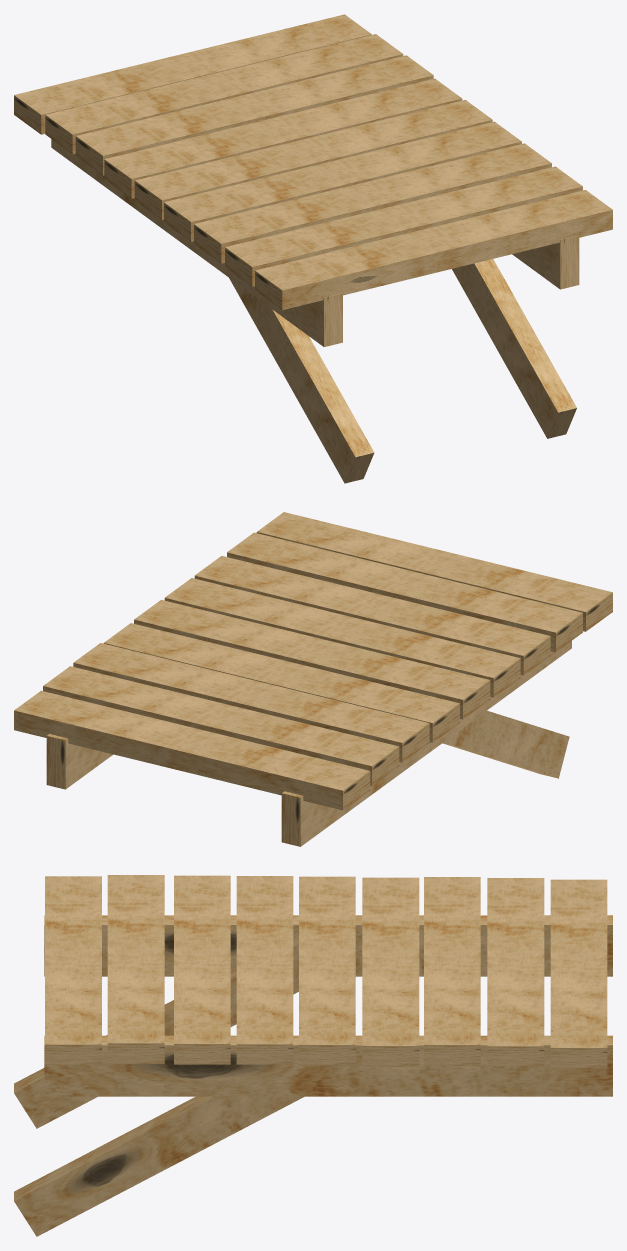
The model's file is boardwalk1.fbx.
3 renders of one model, top to bottom at view 1: azimuth 30°, elevation 25°; view 2: azimuth 150°, elevation 25°; view 3: azimuth 270°, elevation 25°, orthographic. The views are drawn at different scales.
Visible parts, largest first — view 1: Cube.002, Cube.003, Cube.004, Cube.008, Cube.005, Cube.006, Cube.007, Cube.009, Cube.010, Cube.012, Cube.011, Cube.001 (+1 smaller); view 2: Cube.010, Cube.009, Cube.003, Cube.008, Cube.006, Cube.004, Cube.005, Cube.002, Cube.007, Cube.012, Cube.001, Cube; view 3: Cube, Cube.011, Cube.007, Cube.010, Cube.003, Cube.005, Cube.009, Cube.002, Cube.004, Cube.006, Cube.008, Cube.001 (+1 smaller).
Part boxes in pixels (left/top/right/bottom): Cube.002: left=255, top=190, right=612, bottom=310; Cube.003: left=225, top=166, right=582, bottom=286; Cube.004: left=194, top=143, right=551, bottom=263; Cube.008: left=75, top=55, right=433, bottom=175; Cube.005: left=164, top=121, right=521, bottom=241; Cube.006: left=134, top=100, right=492, bottom=219; Cube.007: left=104, top=78, right=462, bottom=198; Cube.009: left=45, top=34, right=403, bottom=154; Cube.010: left=14, top=14, right=371, bottom=134; Cube.012: left=229, top=278, right=374, bottom=483; Cube.011: left=452, top=259, right=576, bottom=438; Cube.001: left=51, top=139, right=342, bottom=346; Cube.010: left=14, top=690, right=370, bottom=810; Cube.009: left=43, top=666, right=399, bottom=785; Cube.003: left=227, top=532, right=582, bottom=652; Cube.008: left=73, top=643, right=429, bottom=762; Cube.006: left=134, top=600, right=490, bottom=719; Cube.004: left=194, top=556, right=550, bottom=675; Cube.005: left=164, top=578, right=520, bottom=697; Cube.002: left=256, top=512, right=612, bottom=631; Cube.007: left=103, top=623, right=459, bottom=742; Cube.012: left=442, top=710, right=569, bottom=778; Cube.001: left=281, top=641, right=571, bottom=846; Cube: left=46, top=734, right=113, bottom=789; Cube: left=44, top=1035, right=612, bottom=1096; Cube.011: left=14, top=1096, right=304, bottom=1236; Cube.007: left=362, top=877, right=419, bottom=1066; Cube.010: left=550, top=879, right=607, bottom=1068; Cube.003: left=107, top=875, right=164, bottom=1063; Cube.005: left=236, top=876, right=293, bottom=1064; Cube.009: left=487, top=878, right=544, bottom=1066; Cube.002: left=45, top=876, right=101, bottom=1065; Cube.004: left=174, top=875, right=230, bottom=1064; Cube.006: left=299, top=876, right=355, bottom=1065; Cube.008: left=424, top=877, right=480, bottom=1065; Cube.001: left=44, top=915, right=612, bottom=976.
Size of the model in its own units: 705 by 426 by 1053.
Materials: 1 (1 with a texture image).
